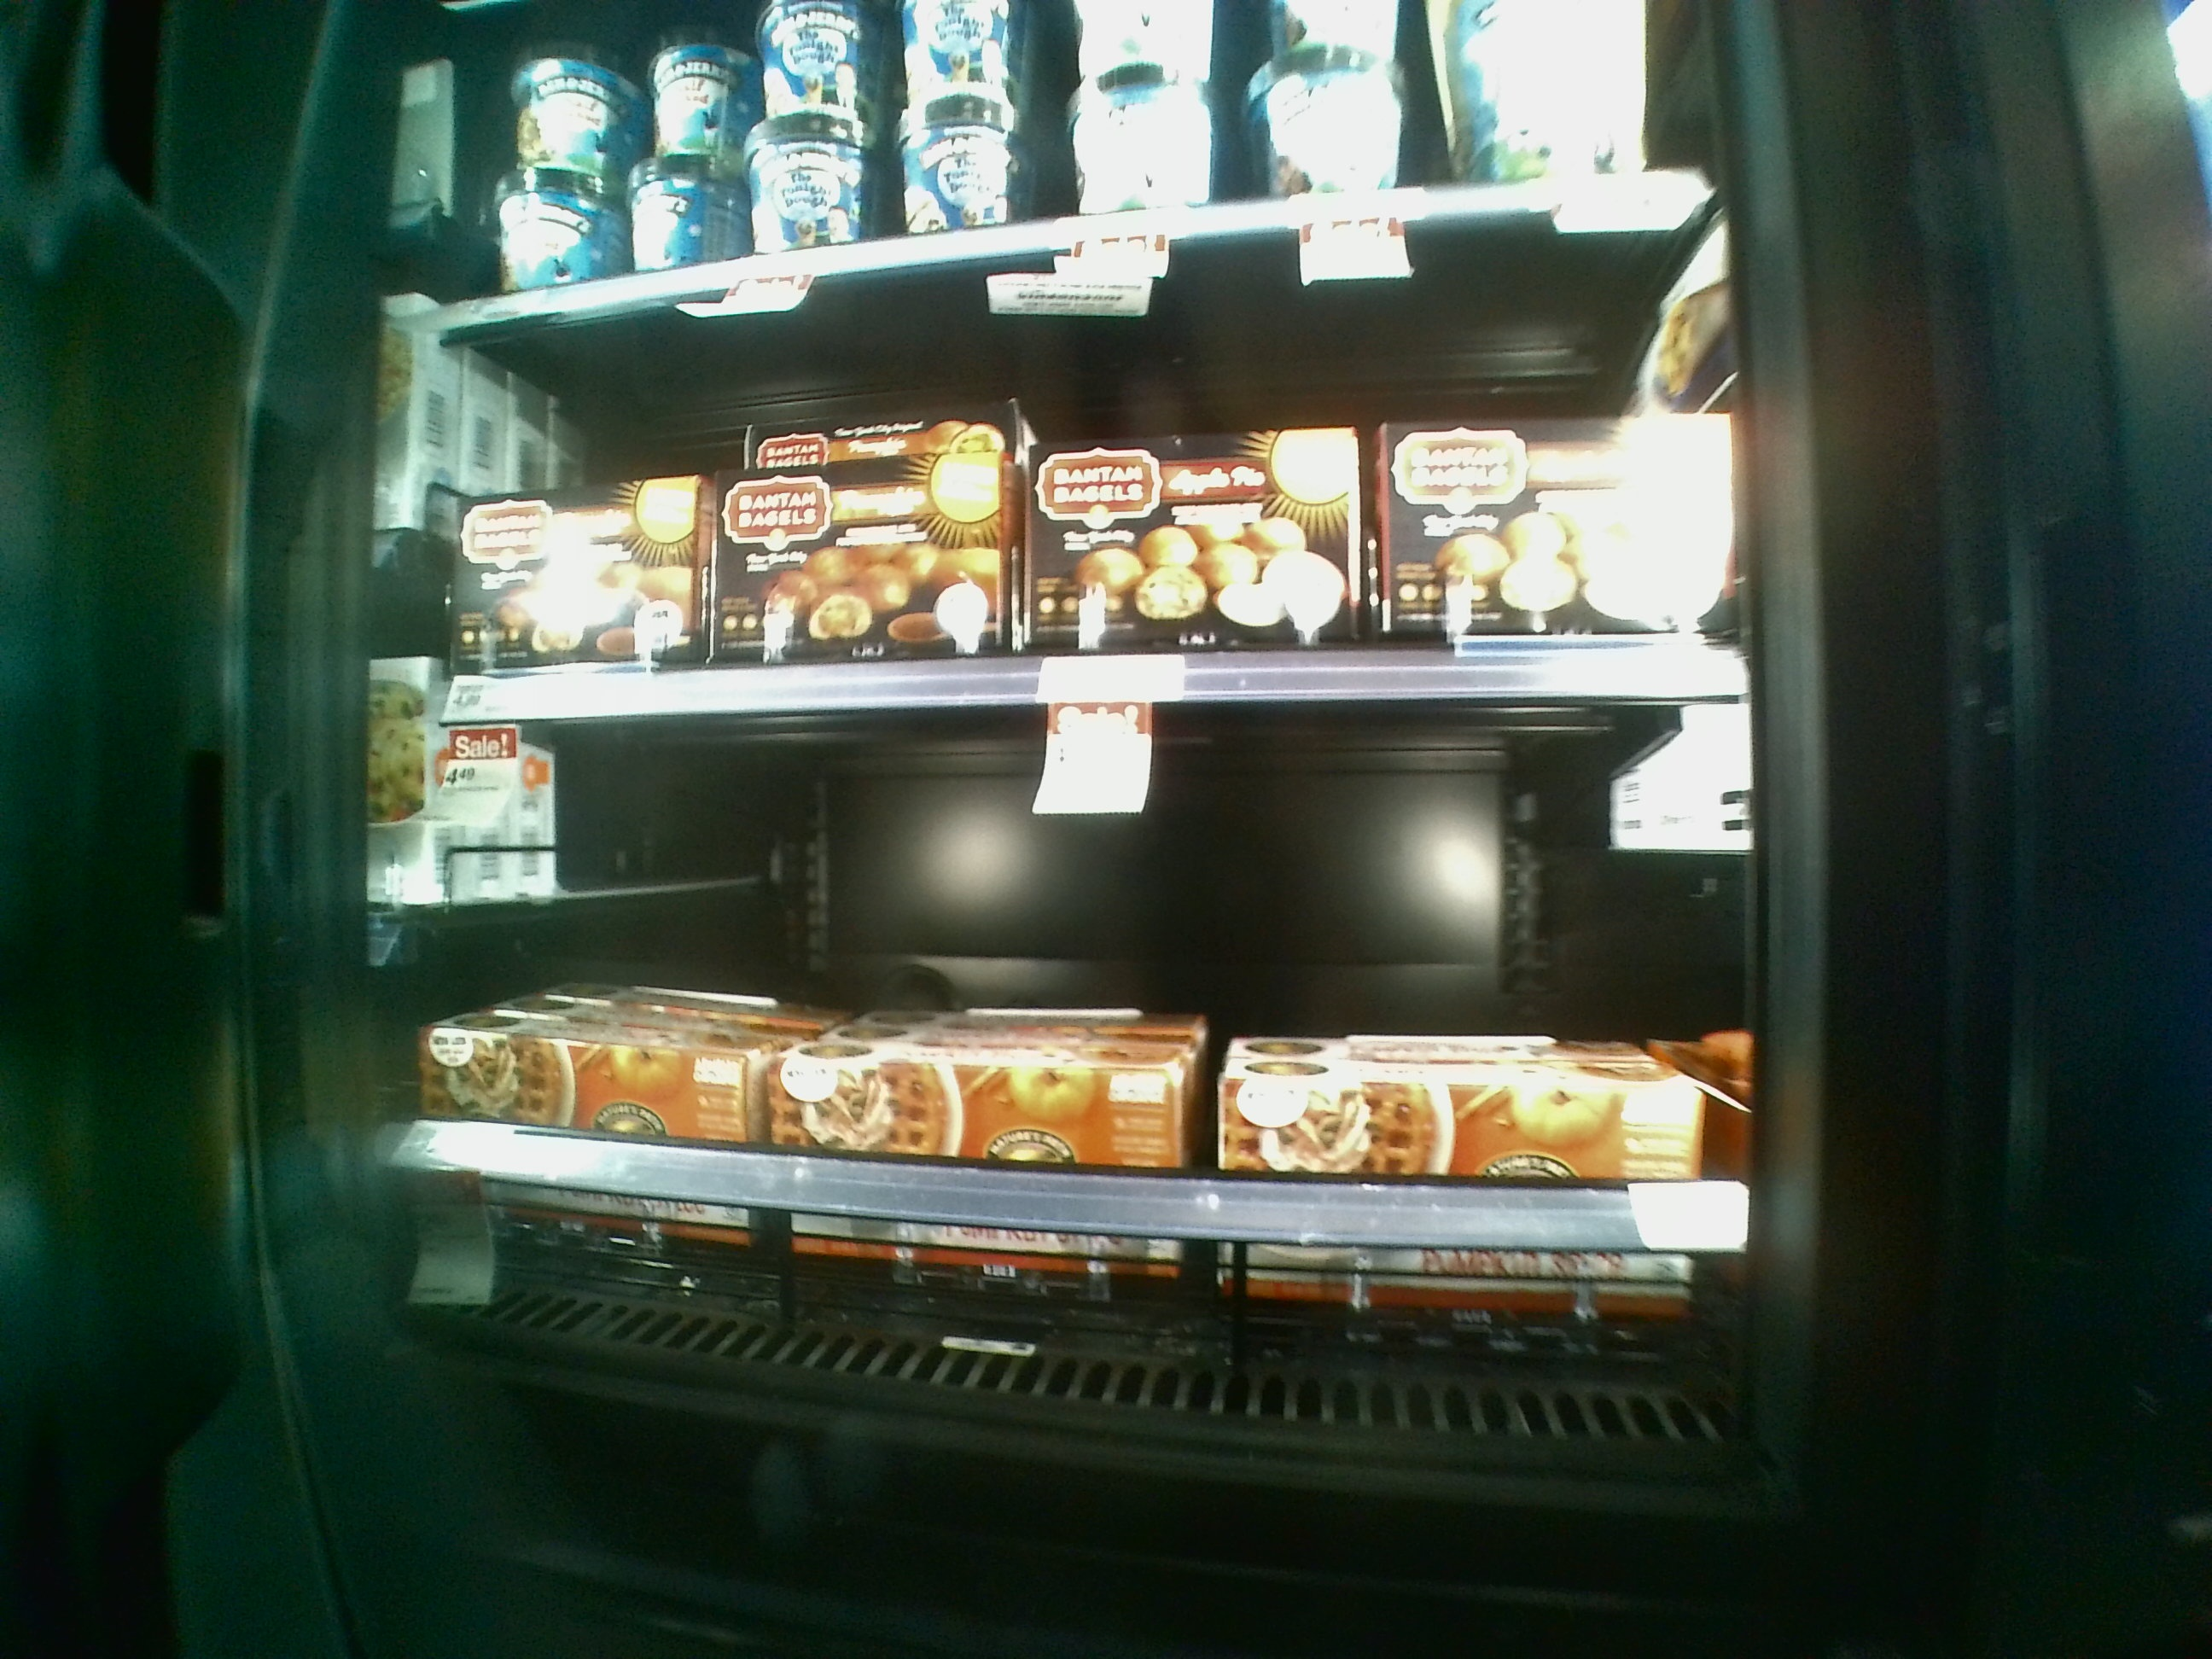shelf: (430, 688, 1735, 1492), (441, 234, 1721, 688)
